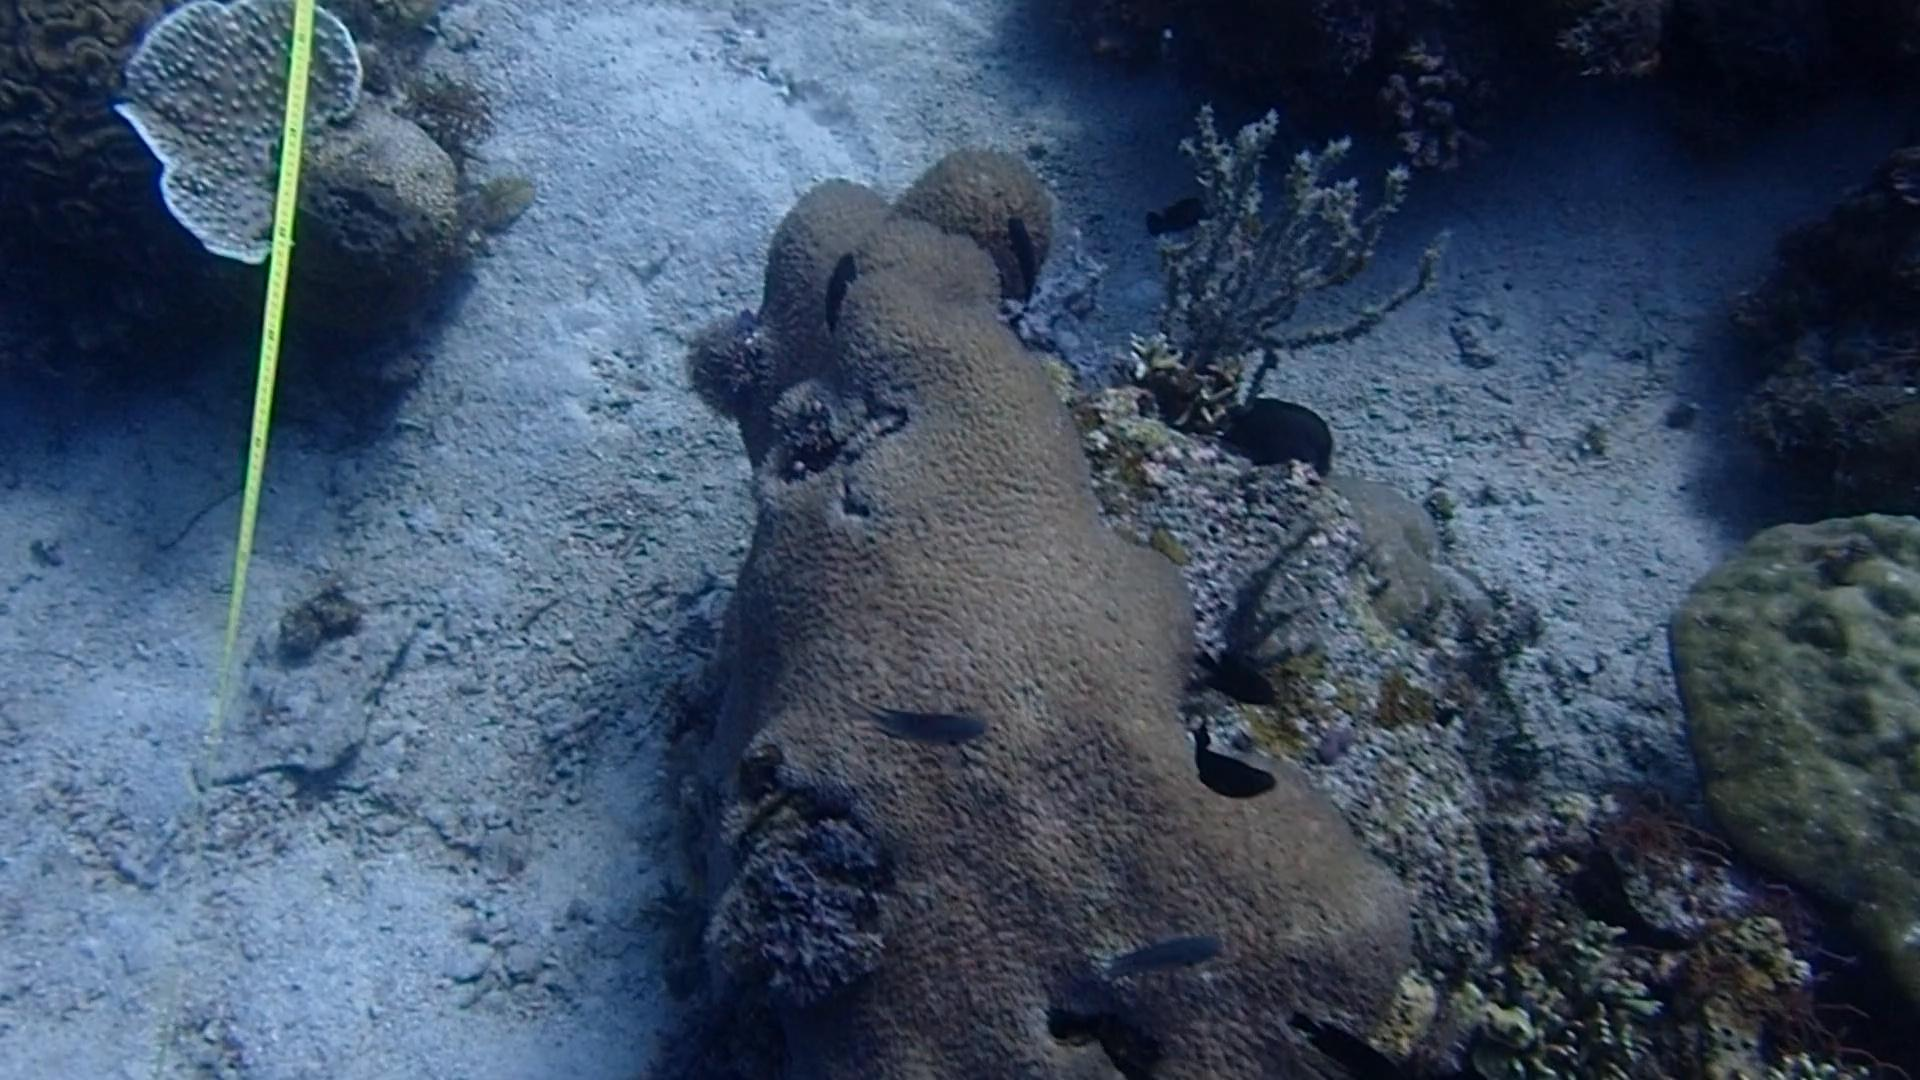Dark Fish: (1271, 1007, 1412, 1075), (1178, 634, 1295, 713), (795, 233, 881, 340), (1178, 728, 1286, 802), (990, 210, 1069, 302), (1141, 185, 1215, 249)
Light Fish: (1091, 915, 1228, 993), (878, 698, 989, 756)
